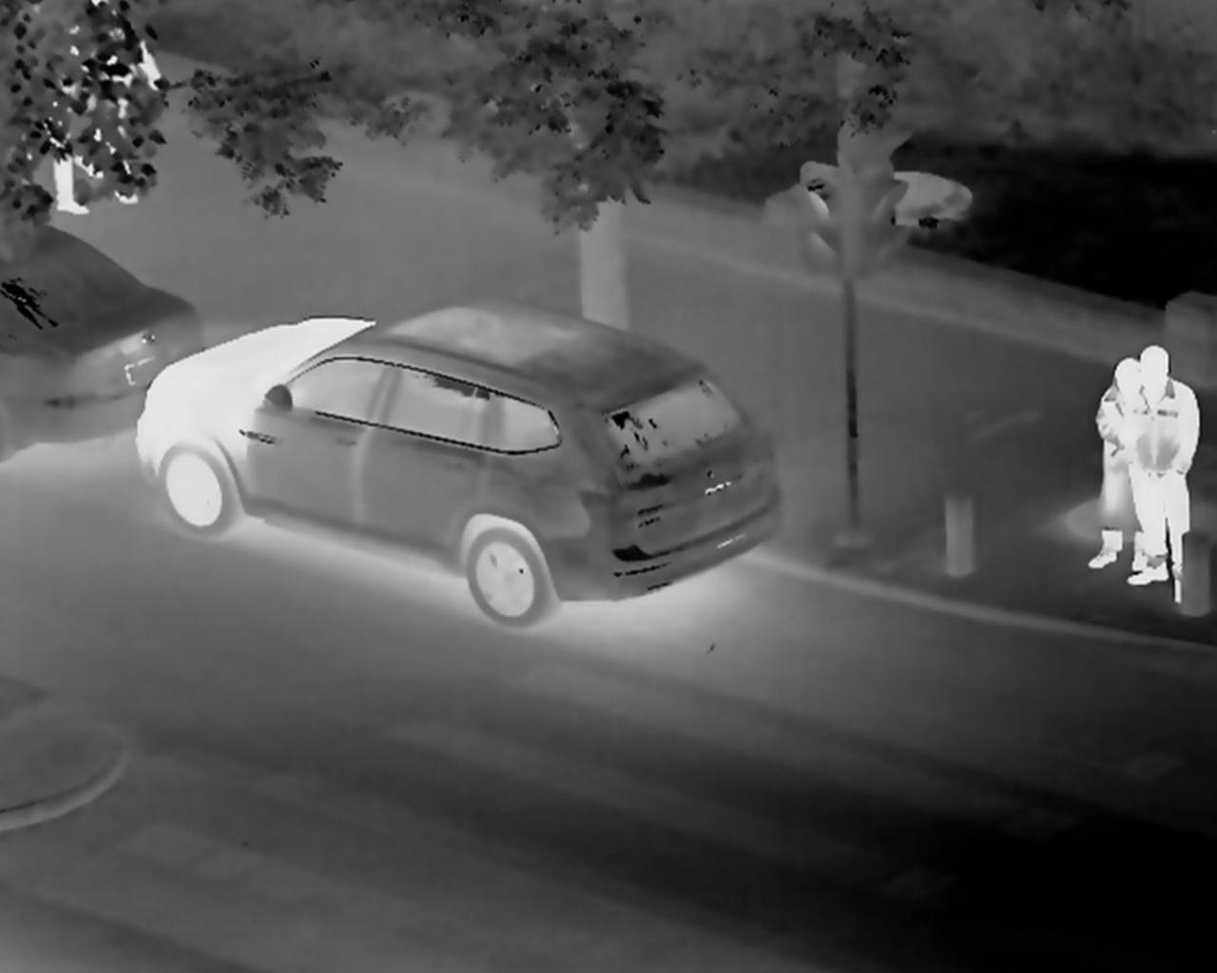person: (1143, 352, 1203, 623), (1100, 351, 1135, 562)
